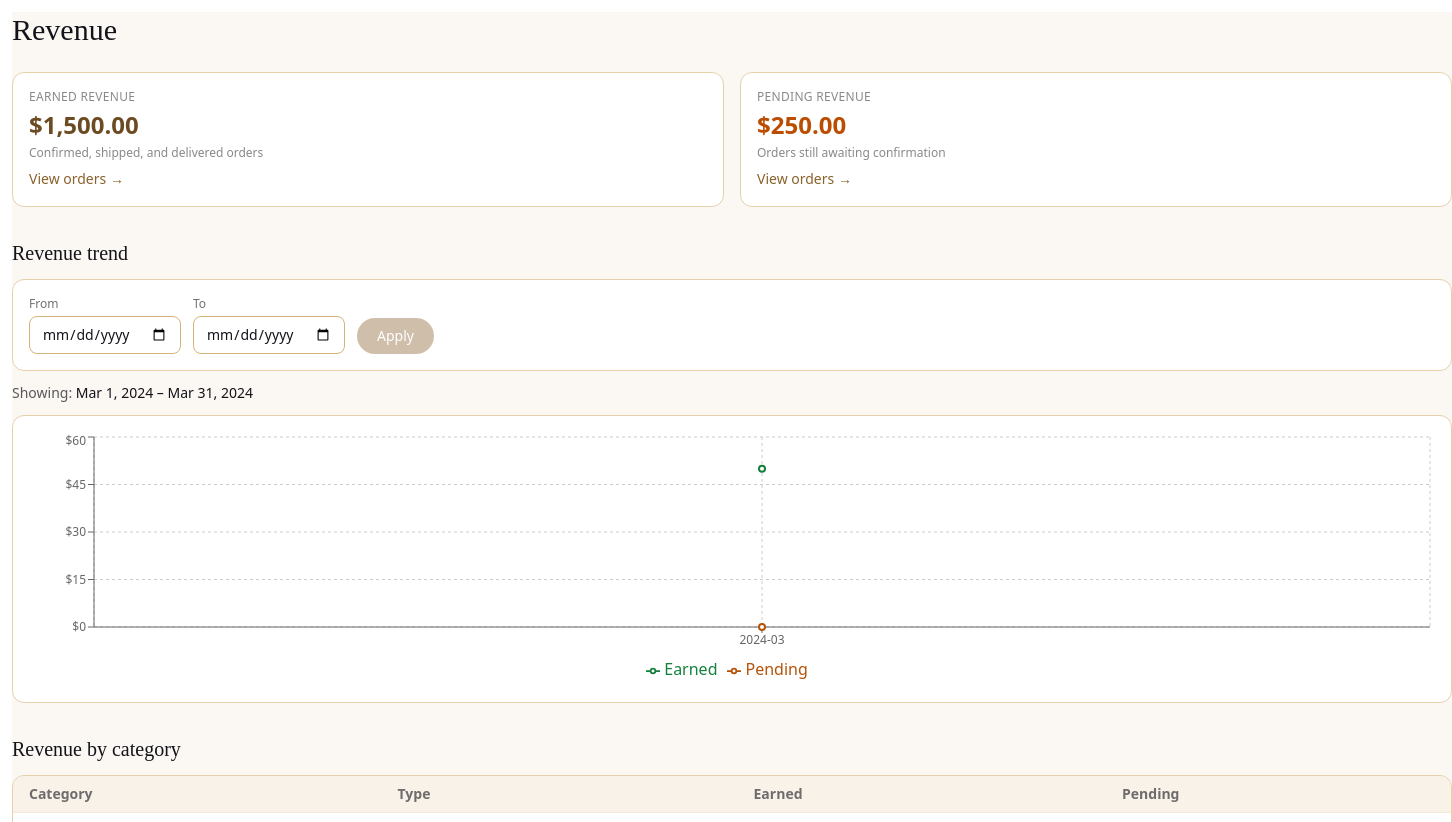
Test case: AdminRevenue › shows the filtered date range above the chart once applied, and lets the admin clear it back to the default trend
The width and height of the screenshot is (1452, 822).
expect the text "Earned revenue" is shown: met, box [29,88,135,105]
Type "2024-03-01" into the date field named "from date" at coordinates (105, 335), box [29,316,181,354]
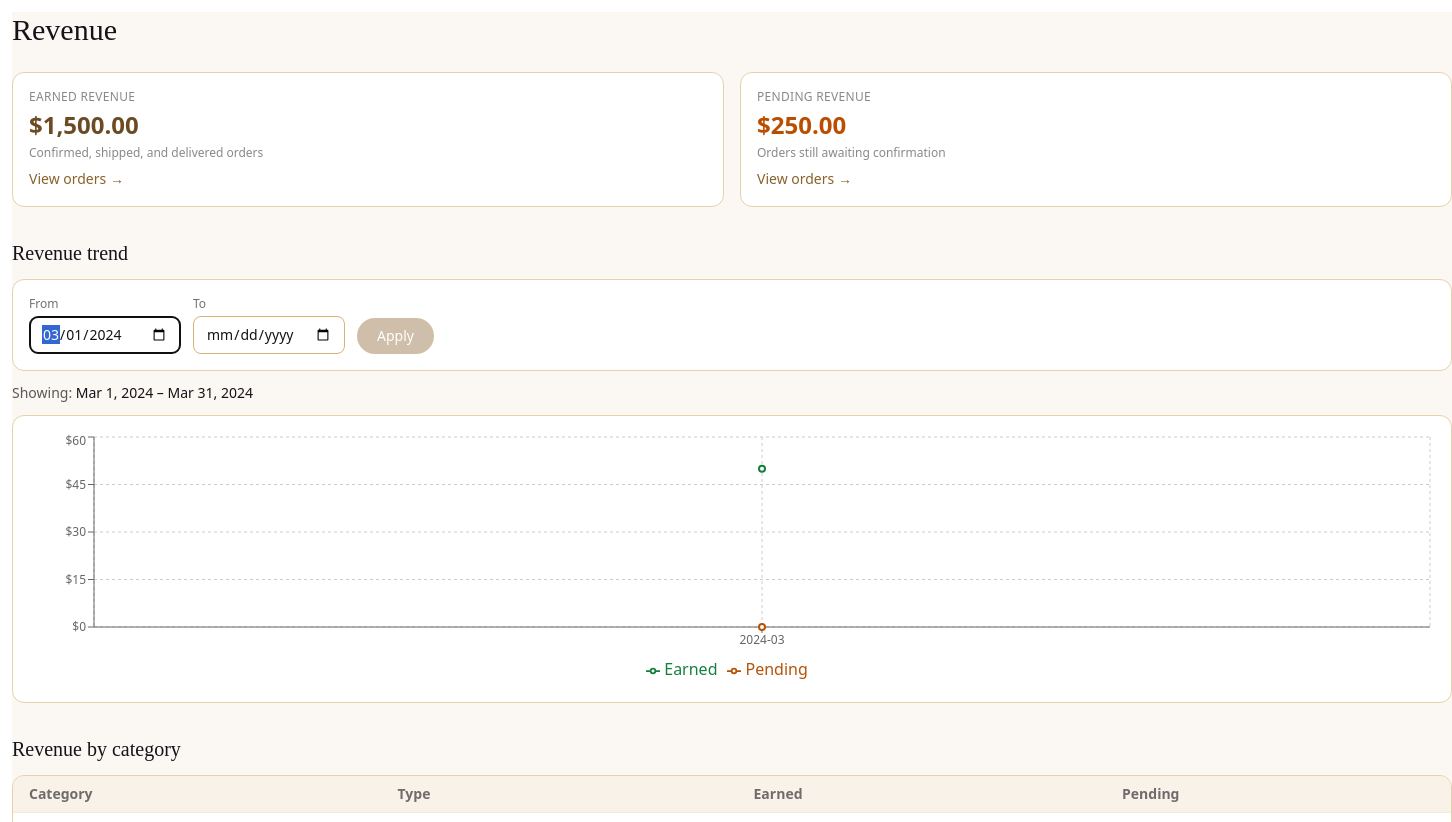
Type "2024-03-31" into the date field named "to date" at coordinates (269, 335), box [193,316,345,354]
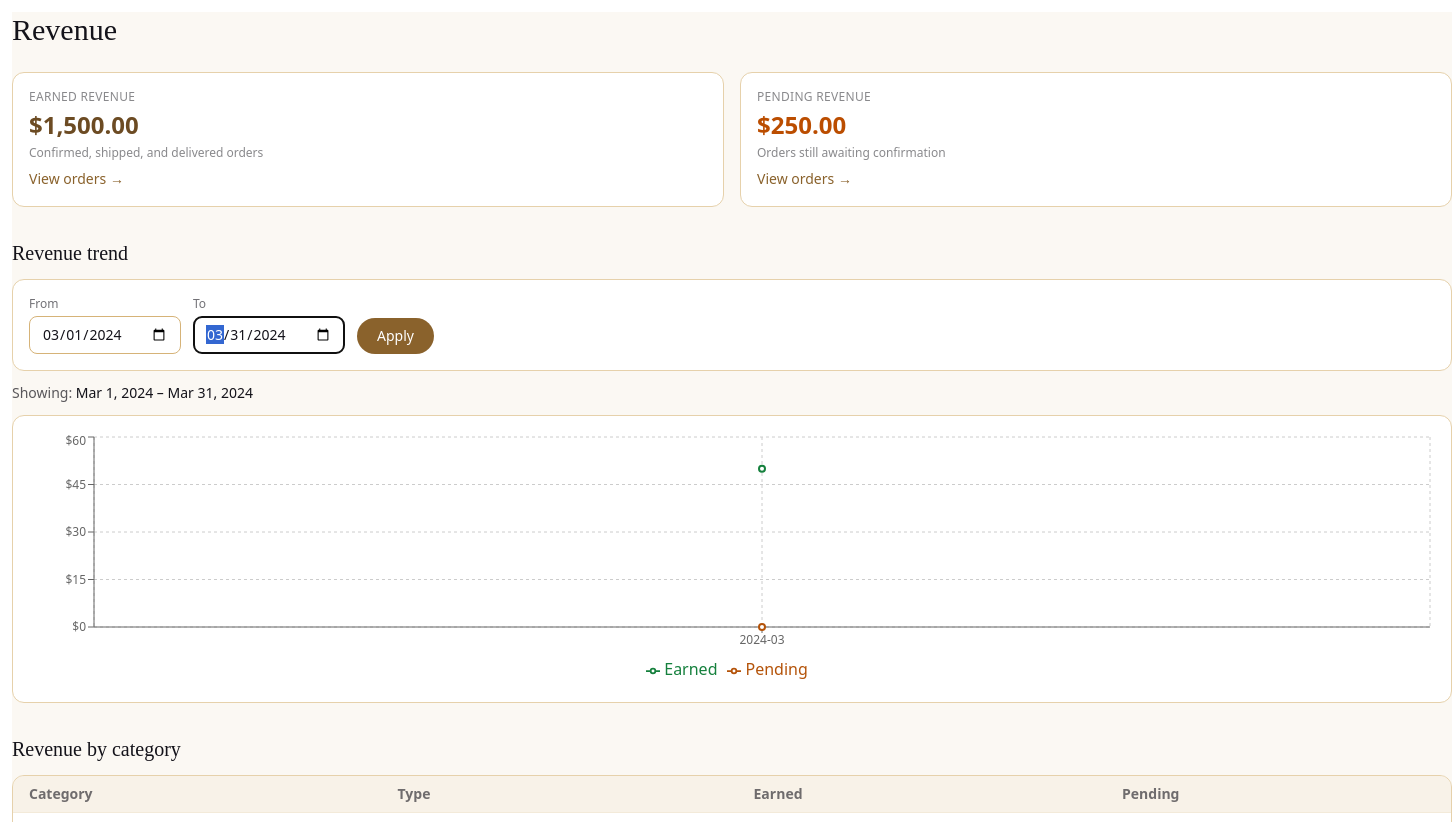
Click the button "Apply" at coordinates (395, 336), box [357,318,434,354]
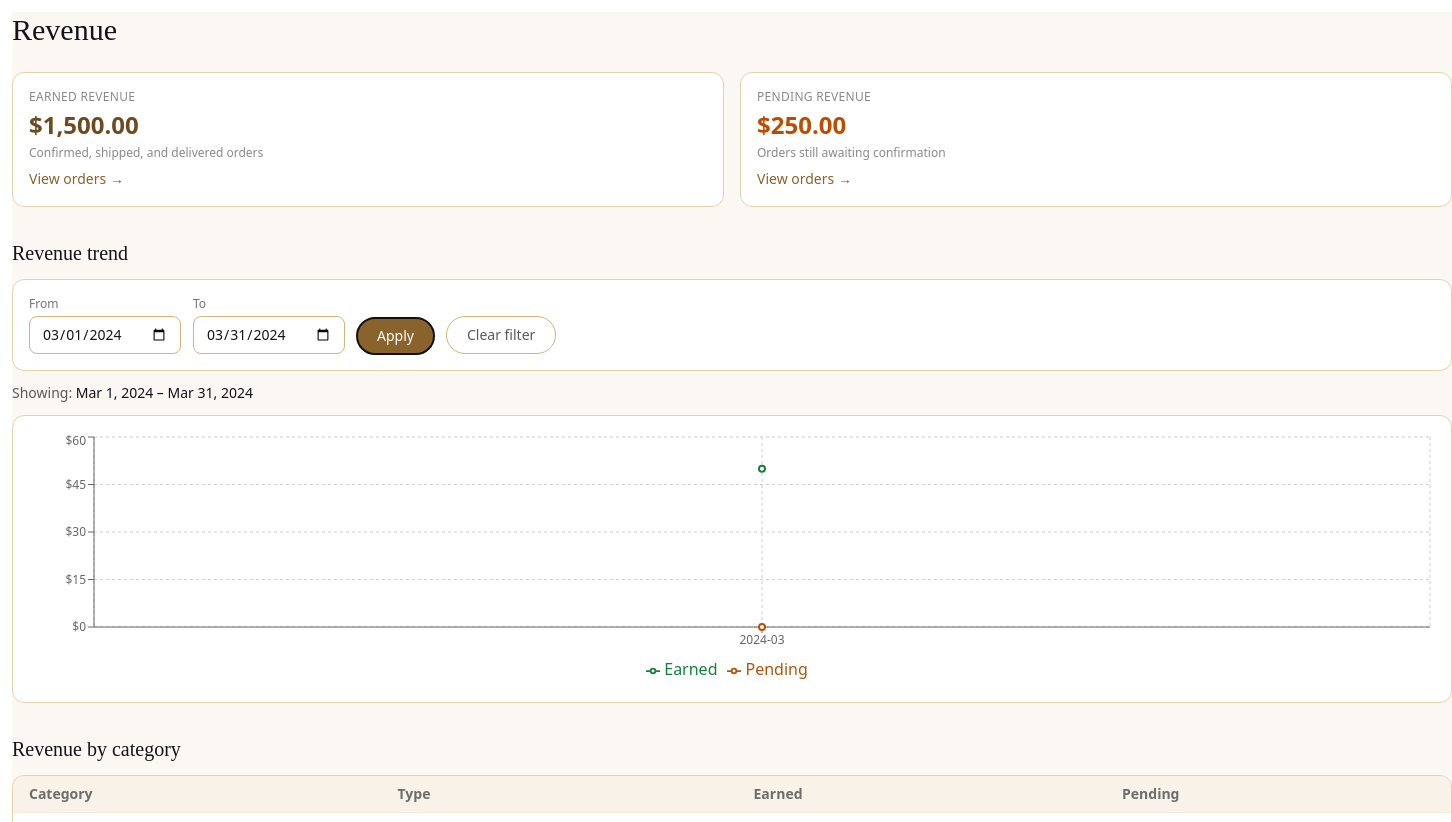
expect the text "Showing: Mar 1, 2024 – Mar 31, 2024" is shown: met, box [12,383,253,402]
expect the text "Mar 1, 2024 – Mar 31, 2024" is shown: met, box [76,383,253,402]
Click the button "Clear filter" at coordinates (501, 335), box [446,316,556,354]
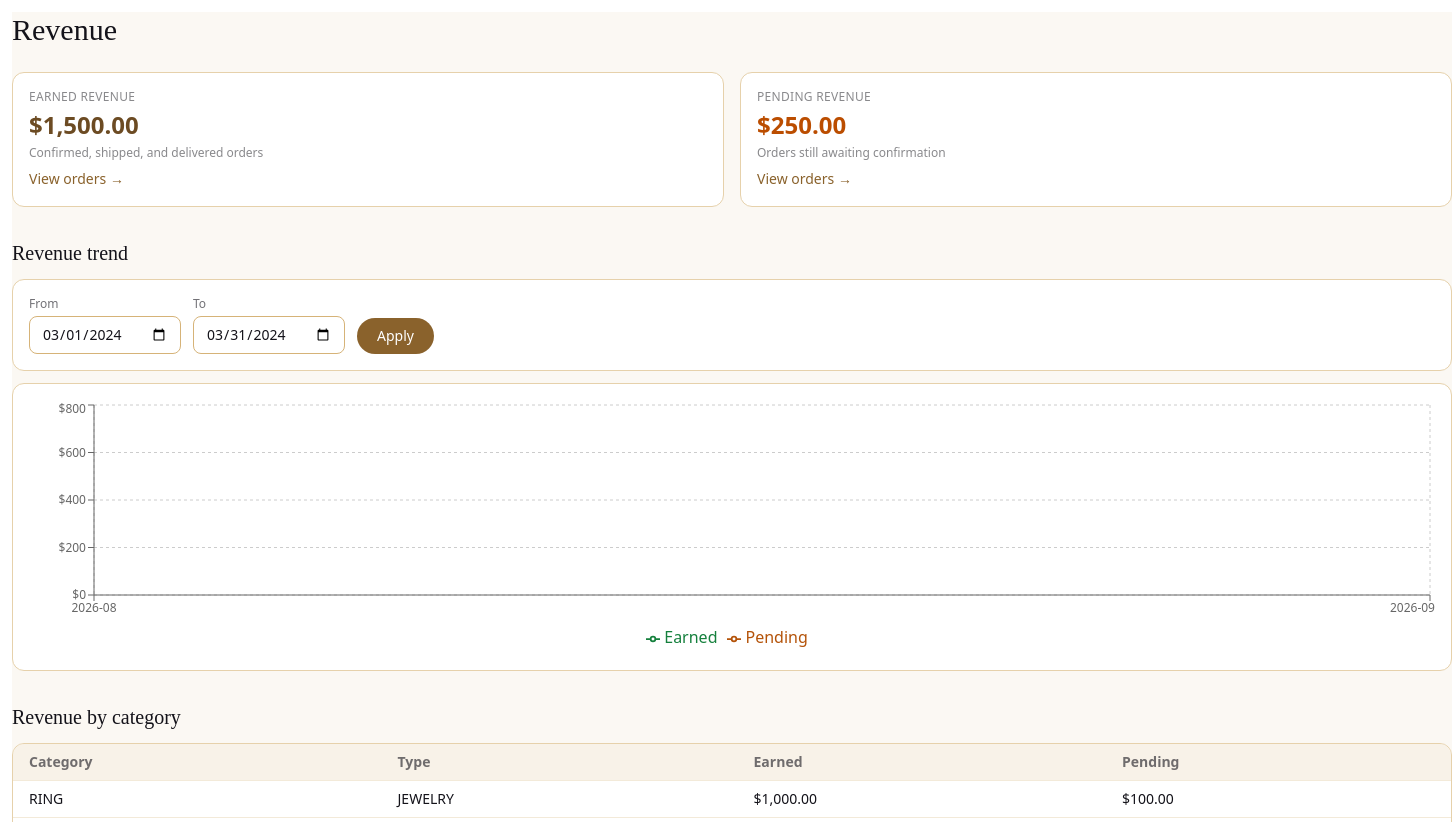
expect the text "Earned revenue" is shown: met, box [29,88,135,105]
expect the text "Showing:" is gone: met
expect the button "Clear filter" is gone: met
